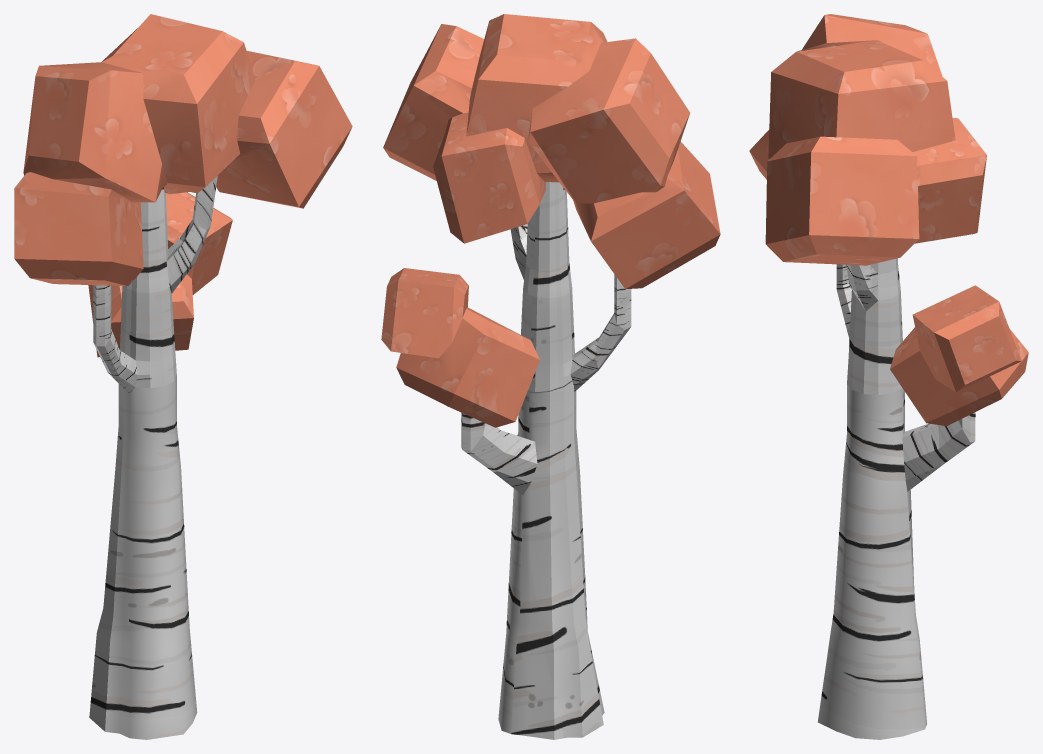
File: Tree 1.FBX
3 renders of one model, left to right at view 1: azimuth 30°, elevation 25°; view 2: azimuth 150°, elevation 25°; view 3: azimuth 270°, elevation 25°, orthographic.
Visible parts, largest first — view 1: Cylinder006; view 2: Cylinder006; view 3: Cylinder006.
Boxes of the visible parts, x1,y1,x2,y2 form: Cylinder006: (14,14,352,739); Cylinder006: (381,14,720,739); Cylinder006: (749,14,1028,739).
Size of the model in its own units: 29.73 by 59.51 by 22.31.
